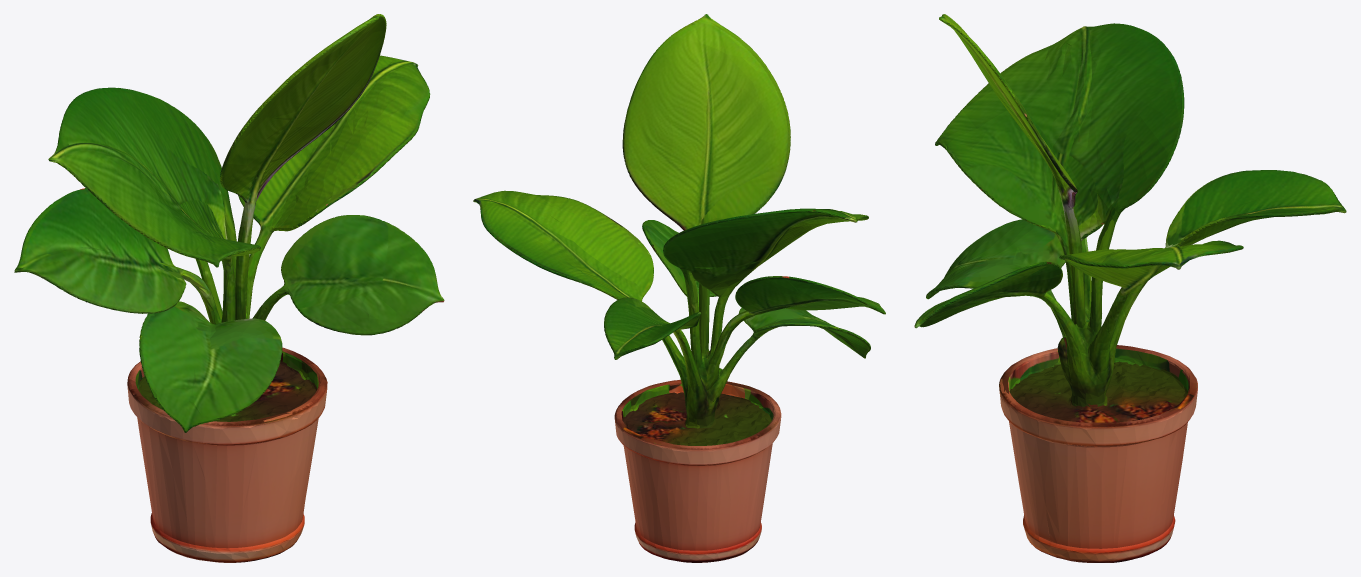
The model's file is sci-fi-planter-a.collider.glb.
3 views of the same model, side by side, from view 1: azimuth 30°, elevation 25°; view 2: azimuth 150°, elevation 25°; view 3: azimuth 270°, elevation 25° (orthographic). The views are drawn at different scales.
Visible parts, largest first — view 1: temp_mesh.ply; view 2: temp_mesh.ply; view 3: temp_mesh.ply.
Boxes of the visible parts, x1,y1,x2,y2 form: temp_mesh.ply: (14, 14, 444, 562); temp_mesh.ply: (473, 14, 885, 562); temp_mesh.ply: (914, 14, 1346, 562).
Bounding box in the file's own units: 1.67 × 1.97 × 1.4.
Materials: 1 (1 with a texture image).
